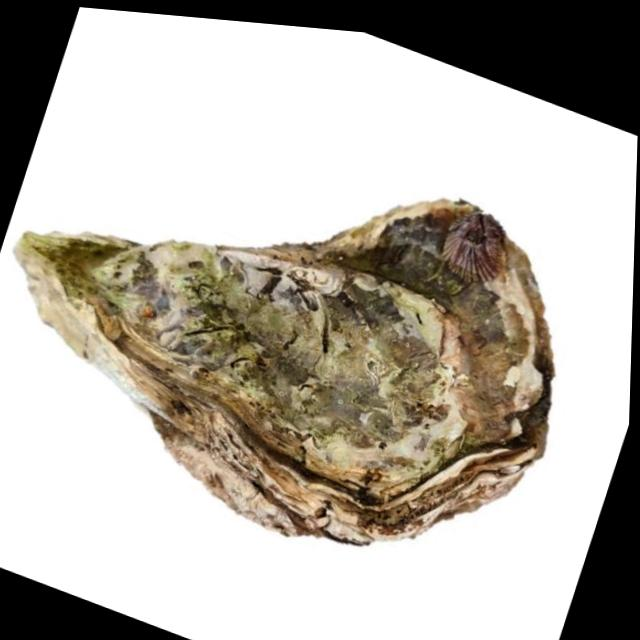Oyster-Closed: (0, 47, 612, 623)
